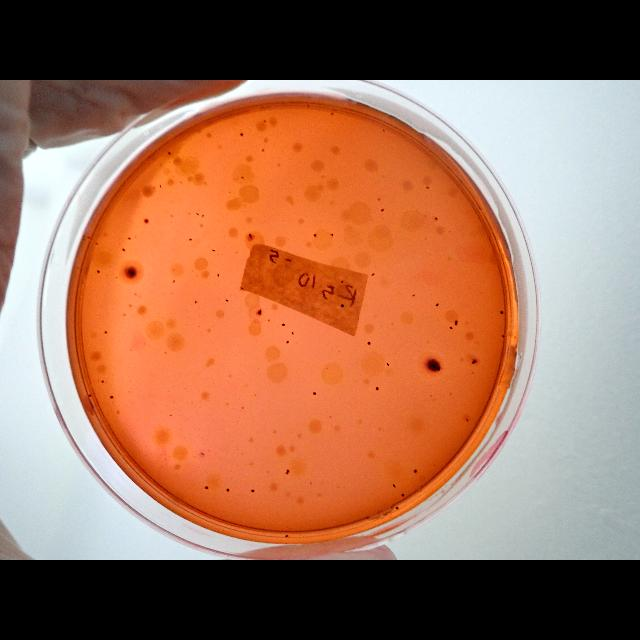colony: (123, 263, 143, 283), (427, 358, 443, 374), (256, 308, 264, 316), (144, 218, 150, 225), (312, 390, 318, 396), (413, 468, 417, 474), (248, 233, 252, 239), (313, 232, 317, 238), (454, 320, 458, 326), (472, 359, 476, 365), (286, 468, 290, 474), (126, 237, 132, 240), (392, 484, 396, 488), (251, 489, 255, 493), (205, 486, 209, 490), (110, 395, 114, 399), (88, 394, 92, 398), (104, 330, 108, 334), (97, 270, 101, 274), (122, 248, 126, 252), (188, 238, 192, 242), (330, 233, 334, 237), (240, 133, 244, 137), (381, 208, 385, 212), (500, 310, 504, 314), (449, 326, 453, 330), (225, 298, 229, 302), (282, 323, 286, 327), (375, 387, 379, 391), (306, 104, 310, 108), (382, 129, 386, 133), (371, 272, 375, 276), (340, 304, 344, 308), (340, 280, 344, 284), (386, 362, 389, 366), (227, 488, 230, 492), (240, 286, 243, 290), (195, 300, 198, 304), (286, 341, 290, 344), (331, 112, 334, 116), (102, 381, 105, 384), (197, 212, 200, 215), (240, 177, 243, 180), (368, 341, 370, 345), (396, 506, 398, 510), (212, 250, 216, 252), (159, 184, 161, 188), (426, 187, 430, 189), (434, 218, 438, 220), (436, 303, 438, 307), (502, 334, 504, 338), (217, 273, 219, 277), (292, 331, 294, 335), (202, 452, 204, 456), (168, 151, 170, 155), (262, 148, 264, 152), (264, 119, 266, 123), (402, 494, 404, 496), (412, 294, 414, 296)
